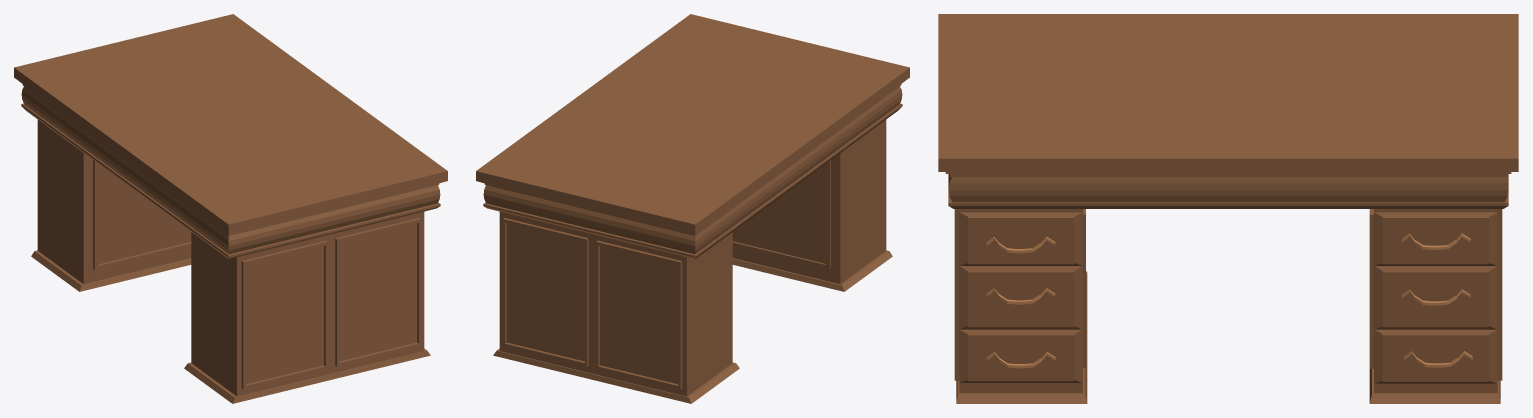
The model's file is mesa_grande.fbx.
3 renders of one model, left to right at view 1: azimuth 30°, elevation 25°; view 2: azimuth 150°, elevation 25°; view 3: azimuth 270°, elevation 25°, orthographic. The views are drawn at different scales.
Parts seen in each view (by area): view 1: Cube; view 2: Cube; view 3: Cube.
Part boxes in pixels (x1,y1,x2,y2): Cube: (14, 14, 447, 403); Cube: (476, 14, 909, 403); Cube: (938, 14, 1518, 403).
Bounding box in the file's own units: 226 × 184 × 383.
